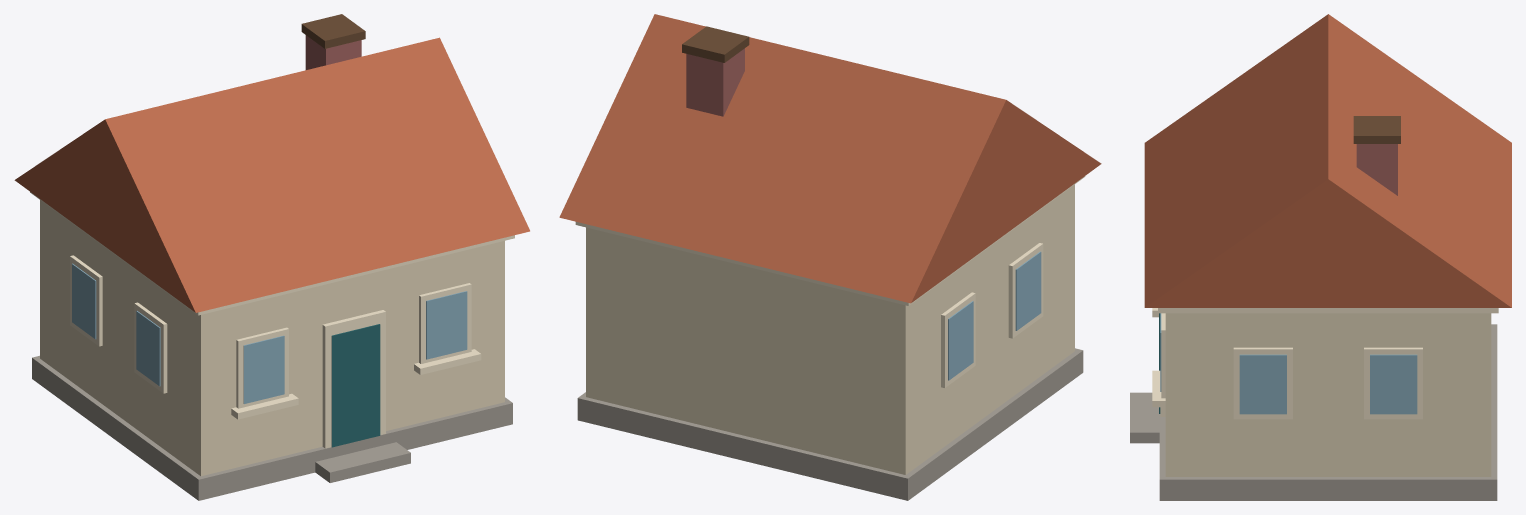
Rendered from house_b.glb.
The picture shows the model from 3 angles, left to right: view 1: azimuth 30°, elevation 25°; view 2: azimuth 150°, elevation 25°; view 3: azimuth 270°, elevation 25°; orthographic projection. The views are drawn at different scales.
Parts seen in each view (by area): view 1: house_b; view 2: house_b; view 3: house_b.
Boxes of the visible parts, x1=… form: house_b: x1=14, y1=14, x2=529, y2=500; house_b: x1=559, y1=14, x2=1101, y2=500; house_b: x1=1130, y1=14, x2=1511, y2=500.
Bounding box in the file's own units: 6.6 × 6.32 × 6.45.
